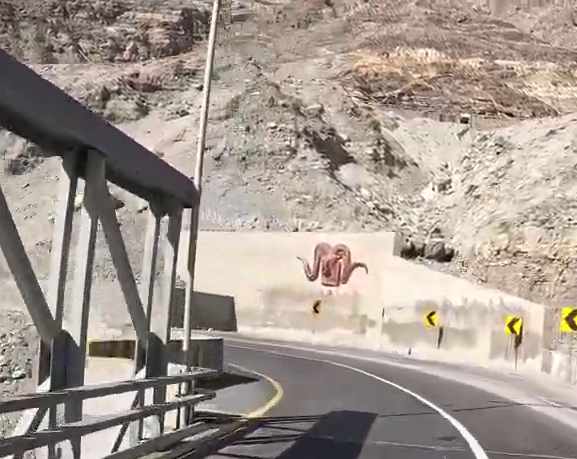right: (240, 278, 571, 451)
